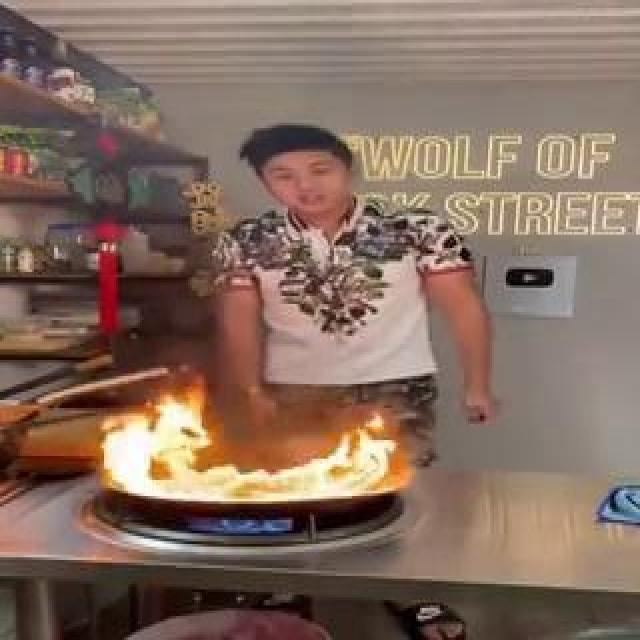Fire: (250, 120, 322, 446)
